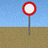sign: (22, 2, 36, 36)
